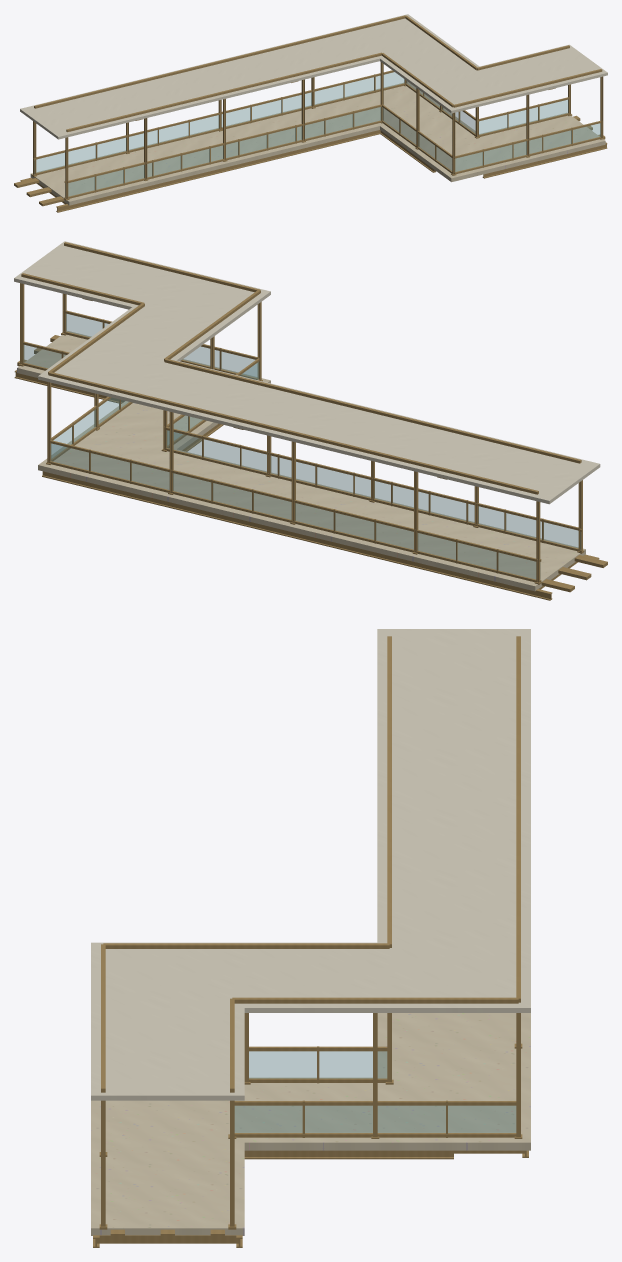
The model's file is THEATER_BACKSTAGE_RECEIVING_r001.glb.
The picture shows the model from 3 angles, top to bottom: view 1: azimuth 30°, elevation 25°; view 2: azimuth 150°, elevation 25°; view 3: azimuth 270°, elevation 25°; orthographic projection. The views are drawn at different scales.
Parts seen in each view (by area): view 1: Backstage_PositiveHeaderTieCanopy, Backstage_MissingOnlyWalkingFloor, Backstage_CanopyEdge0, Backstage_WestLegStringer1_Web, Backstage_CanopyEdge5, Backstage_WestLegStringer1_BottomFlange, Backstage_CanopyEdge3, Backstage_AxialLegStringer1_Web, Backstage_Guard0_4Glass, Backstage_Guard0_7Glass, Backstage_Guard0_2Glass, Backstage_Guard0_5Glass (+30 smaller); view 2: Backstage_PositiveHeaderTieCanopy, Backstage_MissingOnlyWalkingFloor, Backstage_WestLegStringer0_Web, Backstage_CanopyEdge0, Backstage_CanopyEdge5, Backstage_WestLegStringer0_BottomFlange, Backstage_CanopyEdge3, Backstage_Guard0_1Glass, Backstage_Guard0_10Glass, Backstage_Guard0_4Glass, Backstage_Guard0_5Glass, Backstage_Guard0_7Glass (+24 smaller); view 3: Backstage_PositiveHeaderTieCanopy, Backstage_MissingOnlyWalkingFloor, Backstage_CanopyEdge1, Backstage_Guard4_2Glass, Backstage_Guard1_0Glass, Backstage_Guard1_1Glass, Backstage_Guard1_2Glass, Backstage_Guard1_3Glass, Backstage_CanopyEdge0, Backstage_Guard4_3Glass, Backstage_CanopyEdge4, Backstage_CanopyEdge5 (+2 smaller).
Part boxes in pixels (bbox=[...]): Backstage_PositiveHeaderTieCanopy: bbox=[20, 14, 607, 139]; Backstage_MissingOnlyWalkingFloor: bbox=[30, 82, 605, 205]; Backstage_CanopyEdge0: bbox=[34, 15, 405, 108]; Backstage_WestLegStringer1_Web: bbox=[57, 130, 380, 211]; Backstage_CanopyEdge5: bbox=[66, 52, 382, 132]; Backstage_WestLegStringer1_BottomFlange: bbox=[56, 132, 380, 212]; Backstage_CanopyEdge3: bbox=[453, 69, 602, 107]; Backstage_AxialLegStringer1_Web: bbox=[483, 144, 606, 177]; Backstage_Guard0_4Glass: bbox=[159, 122, 188, 142]; Backstage_Guard0_7Glass: bbox=[252, 100, 281, 120]; Backstage_Guard0_2Glass: bbox=[97, 138, 126, 157]; Backstage_Guard0_5Glass: bbox=[190, 115, 218, 135]; Backstage_PositiveHeaderTieCanopy: bbox=[14, 241, 600, 504]; Backstage_MissingOnlyWalkingFloor: bbox=[17, 331, 585, 591]; Backstage_WestLegStringer0_Web: bbox=[42, 471, 551, 599]; Backstage_CanopyEdge0: bbox=[48, 372, 538, 494]; Backstage_CanopyEdge5: bbox=[164, 359, 581, 463]; Backstage_WestLegStringer0_BottomFlange: bbox=[42, 475, 552, 600]; Backstage_CanopyEdge3: bbox=[64, 242, 259, 292]; Backstage_Guard0_1Glass: bbox=[457, 543, 496, 569]; Backstage_Guard0_10Glass: bbox=[91, 453, 129, 480]; Backstage_Guard0_4Glass: bbox=[335, 513, 373, 539]; Backstage_Guard0_5Glass: bbox=[295, 503, 333, 529]; Backstage_Guard0_7Glass: bbox=[213, 483, 251, 509]; Backstage_PositiveHeaderTieCanopy: bbox=[91, 629, 530, 1100]; Backstage_MissingOnlyWalkingFloor: bbox=[91, 1013, 530, 1235]; Backstage_CanopyEdge1: bbox=[232, 997, 518, 1003]; Backstage_Guard4_2Glass: bbox=[249, 1051, 316, 1078]; Backstage_Guard1_0Glass: bbox=[448, 1106, 515, 1132]; Backstage_Guard1_1Glass: bbox=[378, 1106, 445, 1132]; Backstage_Guard1_2Glass: bbox=[305, 1106, 372, 1132]; Backstage_Guard1_3Glass: bbox=[235, 1106, 302, 1132]; Backstage_CanopyEdge0: bbox=[516, 636, 520, 1002]; Backstage_Guard4_3Glass: bbox=[319, 1051, 386, 1078]; Backstage_CanopyEdge4: bbox=[103, 943, 389, 948]; Backstage_CanopyEdge5: bbox=[387, 636, 391, 947].
Bounding box in the file's own units: 31.7 × 4.82 × 12.3.
Materials: 5 (3 with a texture image).
